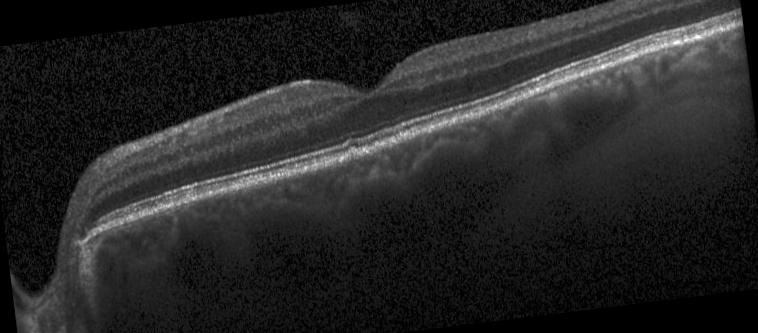retinal_drusen: (339, 144, 367, 162)
